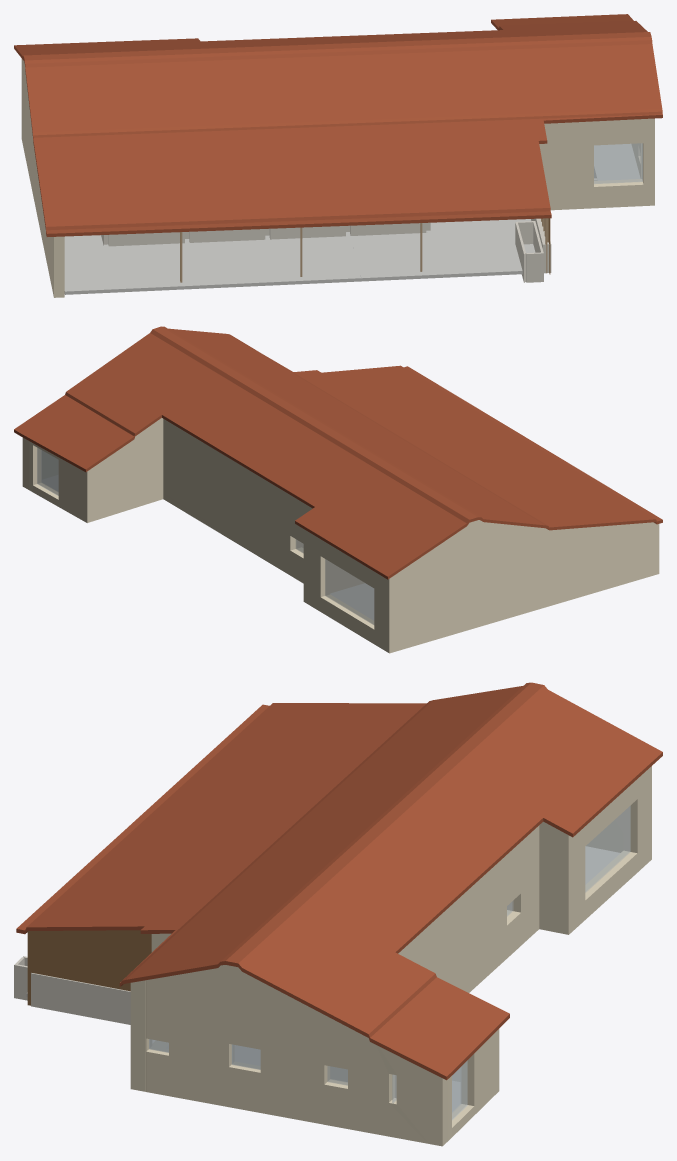
File: rebus_EDL.glb
3 renders of one model, top to bottom at view 1: azimuth 30°, elevation 25°; view 2: azimuth 150°, elevation 25°; view 3: azimuth 270°, elevation 25°, orthographic. The views are drawn at different scales.
Parts seen in each view (by area): view 1: EDL_toiture_existant_toiture, EDL_sol_existant_Auvent_5, EDL_sol_existant_Auvent_4, EDL_mur_existant_Mur_7, EDL_fenetre_existant_Fenetre_personnalisable_25_2_1, EDL_sol_existant_Salle_de_Traite_6, EDL_mur_existant_Mur_9, EDL_mur_existant_Mur_29, EDL_muret_existant_Mur_32, EDL_muret_existant_Mur_31, EDL_muret_existant_Mur_30, EDL_muret_existant_Mur_27 (+2 smaller); view 2: EDL_toiture_existant_toiture, EDL_mur_existant_Mur_9, EDL_mur_existant_Mur_12, EDL_mur_existant_Mur_29, EDL_mur_existant_Mur_14, EDL_mur_existant_Mur_10, EDL_mur_existant_Mur_003, EDL_fenetre_existant_Fenetre_personnalisable_25_4_3, EDL_sol_existant_Materiel_3, EDL_porte_existant_Fenetre_personnalisable_25_9_8, EDL_porte_existant_Fenetre_personnalisable_25_15_14, EDL_mur_existant_Mur_11 (+1 smaller); view 3: EDL_toiture_existant_toiture, EDL_mur_existant_Mur_16, EDL_mur_existant_Mur_12, EDL_mur_existant_Mur_13, EDL_mur_existant_Mur_10, EDL_bardage_existant_Mur-rideau_3, EDL_muret_existant_Mur_33, EDL_mur_existant_Mur_003, EDL_fenetre_existant_Fenetre_personnalisable_25_4_3, EDL_mur_existant_Mur_002, EDL_mur_existant_Mur_7, EDL_mur_existant_Mur_11 (+4 smaller).
Boxes of the visible parts, left/top/right/bottom form: EDL_toiture_existant_toiture: left=14, top=14, right=662, bottom=236; EDL_sol_existant_Auvent_5: left=64, top=230, right=430, bottom=294; EDL_sol_existant_Auvent_4: left=350, top=219, right=535, bottom=281; EDL_mur_existant_Mur_7: left=539, top=118, right=654, bottom=210; EDL_fenetre_existant_Fenetre_personnalisable_25_2_1: left=594, top=143, right=642, bottom=183; EDL_sol_existant_Salle_de_Traite_6: left=594, top=144, right=640, bottom=180; EDL_mur_existant_Mur_9: left=21, top=59, right=40, bottom=231; EDL_mur_existant_Mur_29: left=40, top=195, right=64, bottom=297; EDL_muret_existant_Mur_32: left=108, top=232, right=184, bottom=246; EDL_muret_existant_Mur_31: left=189, top=229, right=265, bottom=242; EDL_muret_existant_Mur_30: left=269, top=226, right=345, bottom=239; EDL_muret_existant_Mur_27: left=350, top=223, right=426, bottom=235; EDL_toiture_existant_toiture: left=14, top=326, right=662, bottom=579; EDL_mur_existant_Mur_9: left=382, top=520, right=547, bottom=653; EDL_mur_existant_Mur_12: left=163, top=419, right=304, bottom=583; EDL_mur_existant_Mur_29: left=548, top=522, right=659, bottom=606; EDL_mur_existant_Mur_14: left=96, top=418, right=163, bottom=519; EDL_mur_existant_Mur_10: left=303, top=529, right=382, bottom=648; EDL_mur_existant_Mur_003: left=29, top=441, right=87, bottom=522; EDL_fenetre_existant_Fenetre_personnalisable_25_4_3: left=325, top=559, right=374, bottom=624; EDL_sol_existant_Materiel_3: left=330, top=583, right=373, bottom=620; EDL_porte_existant_Fenetre_personnalisable_25_9_8: left=37, top=447, right=58, bottom=495; EDL_porte_existant_Fenetre_personnalisable_25_15_14: left=41, top=450, right=58, bottom=491; EDL_mur_existant_Mur_11: left=330, top=562, right=364, bottom=592; EDL_toiture_existant_toiture: left=16, top=682, right=662, bottom=1080; EDL_mur_existant_Mur_16: left=145, top=965, right=307, bottom=1121; EDL_mur_existant_Mur_12: left=308, top=842, right=521, bottom=1124; EDL_mur_existant_Mur_13: left=324, top=1015, right=429, bottom=1143; EDL_mur_existant_Mur_10: left=555, top=772, right=645, bottom=934; EDL_bardage_existant_Mur-rideau_3: left=27, top=930, right=151, bottom=1005; EDL_muret_existant_Mur_33: left=31, top=973, right=130, bottom=1024; EDL_mur_existant_Mur_003: left=448, top=1029, right=499, bottom=1140; EDL_fenetre_existant_Fenetre_personnalisable_25_4_3: left=585, top=805, right=630, bottom=892; EDL_mur_existant_Mur_002: left=507, top=825, right=539, bottom=944; EDL_mur_existant_Mur_7: left=130, top=980, right=168, bottom=1091; EDL_mur_existant_Mur_11: left=539, top=821, right=554, bottom=932.
Bounding box in the file's own units: 31.61 × 5.92 × 23.28.
